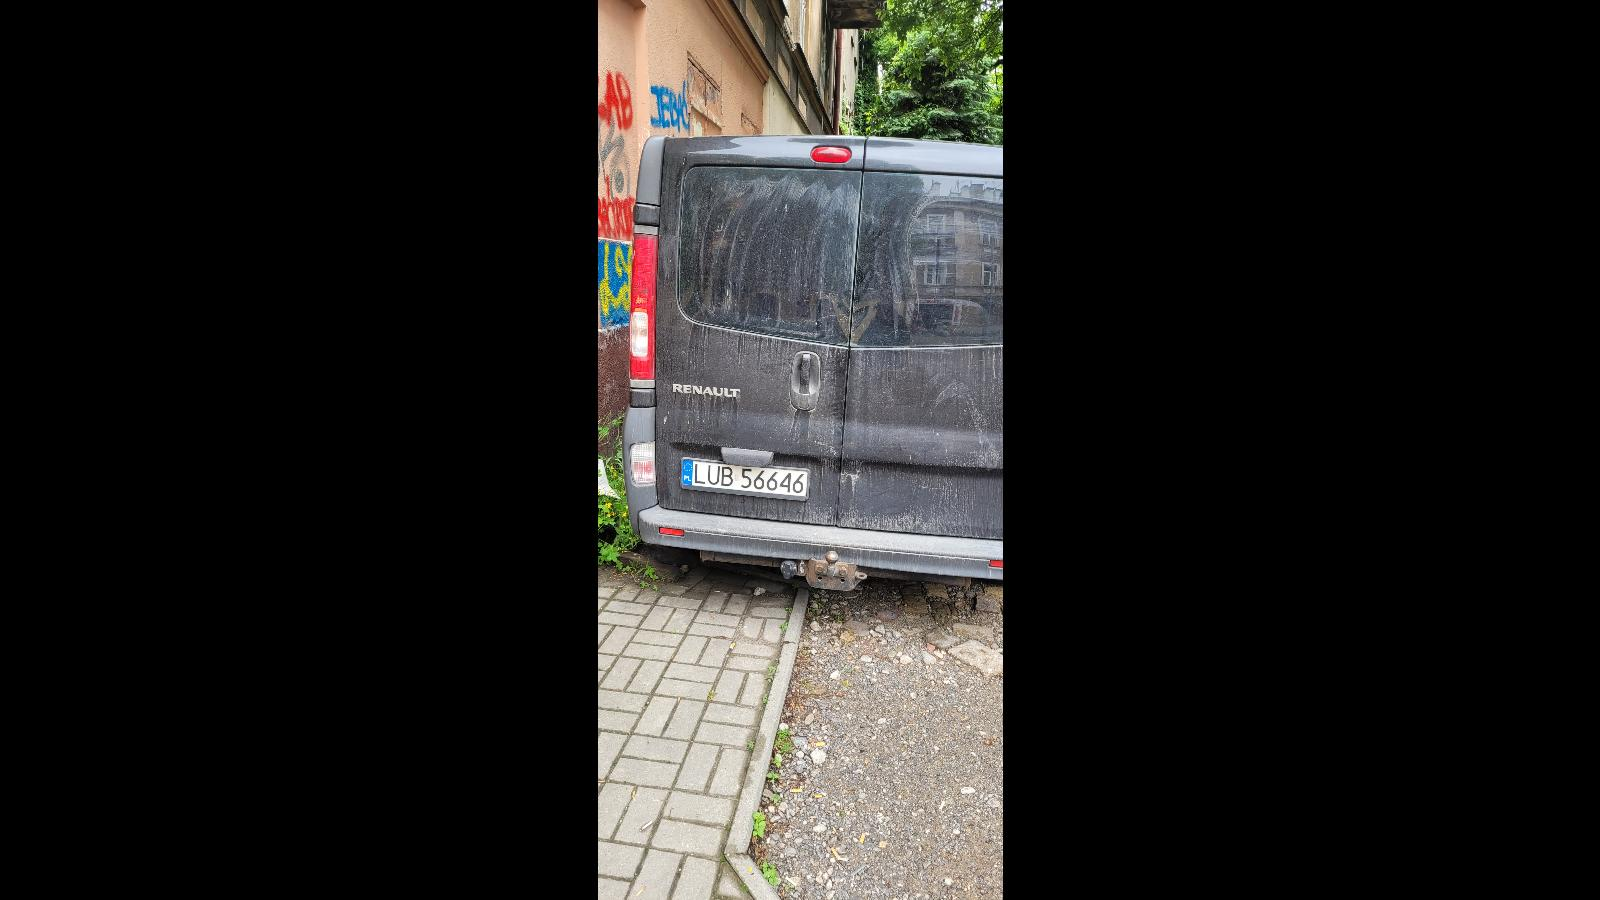plates: (680, 457, 809, 501)
